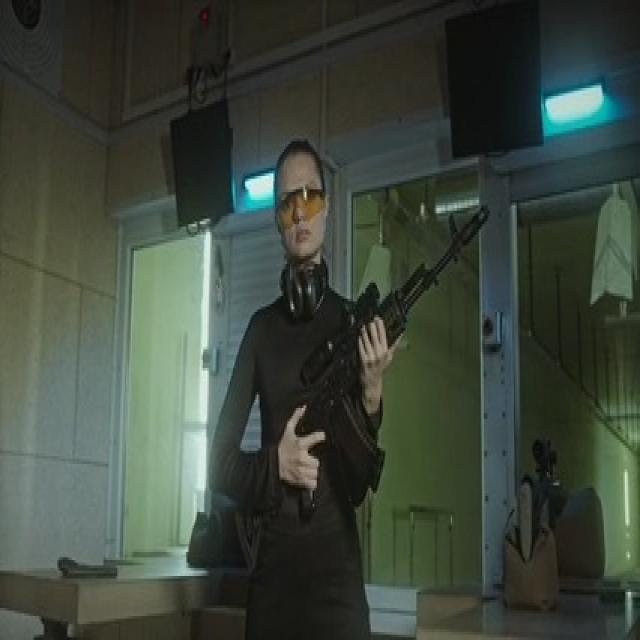Gun_Holder: (237, 206, 519, 541)
Person: (207, 144, 396, 638)
